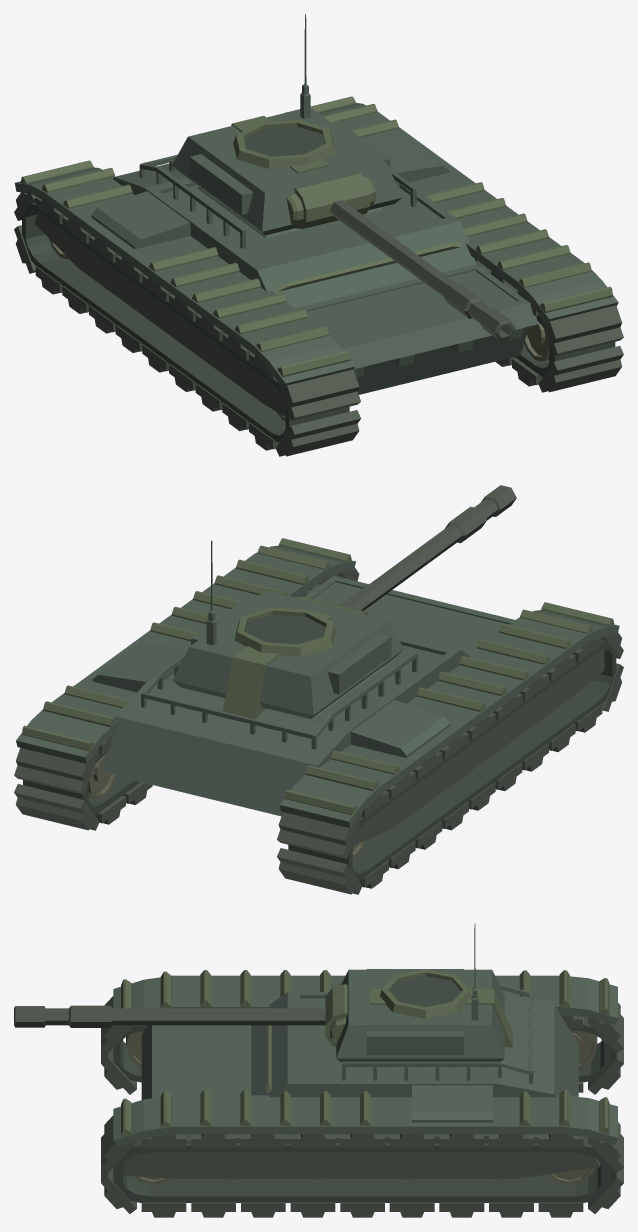
Rendered from tank.glb.
3 renders of one model, top to bottom at view 1: azimuth 30°, elevation 25°; view 2: azimuth 150°, elevation 25°; view 3: azimuth 270°, elevation 25°, orthographic. The views are drawn at different scales.
Visible parts, largest first — view 1: hull, turret, track-right, track-left, barrel; view 2: hull, turret, track-right, track-left, barrel; view 3: hull, turret, track-left, barrel, track-right.
Part boxes in pixels (x1=…): hull: x1=15, y1=96, x2=618, y2=442; turret: x1=139, y1=14, x2=416, y2=248; track-right: x1=14, y1=192, x2=360, y2=456; track-left: x1=474, y1=258, x2=623, y2=392; barrel: x1=330, y1=200, x2=515, y2=340; hull: x1=16, y1=538, x2=619, y2=880; turret: x1=141, y1=540, x2=417, y2=739; track-right: x1=277, y1=632, x2=623, y2=894; track-left: x1=14, y1=567, x2=359, y2=830; barrel: x1=340, y1=485, x2=516, y2=610; hull: x1=113, y1=970, x2=617, y2=1202; turret: x1=325, y1=923, x2=533, y2=1080; track-left: x1=101, y1=1115, x2=623, y2=1217; barrel: x1=14, y1=1005, x2=325, y2=1027; track-right: x1=101, y1=996, x2=623, y2=1094.
Size of the model in its own units: 4.22 by 3.14 by 7.2.
